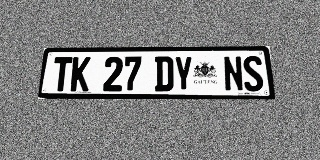2: (103, 57, 123, 91)
7: (122, 56, 142, 91)
D: (155, 56, 173, 91)
K: (70, 57, 91, 91)
N: (223, 56, 244, 91)
S: (242, 56, 264, 91)
T: (51, 57, 73, 91)
Y: (174, 56, 193, 91)
